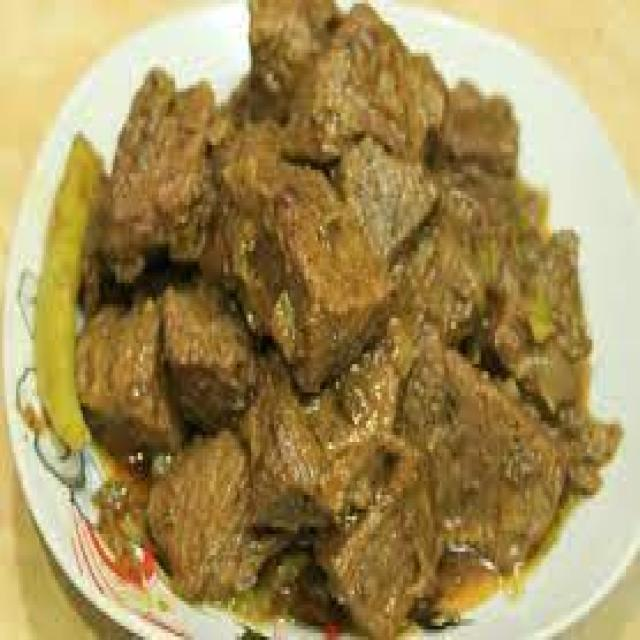Carne: (66, 0, 619, 636)
